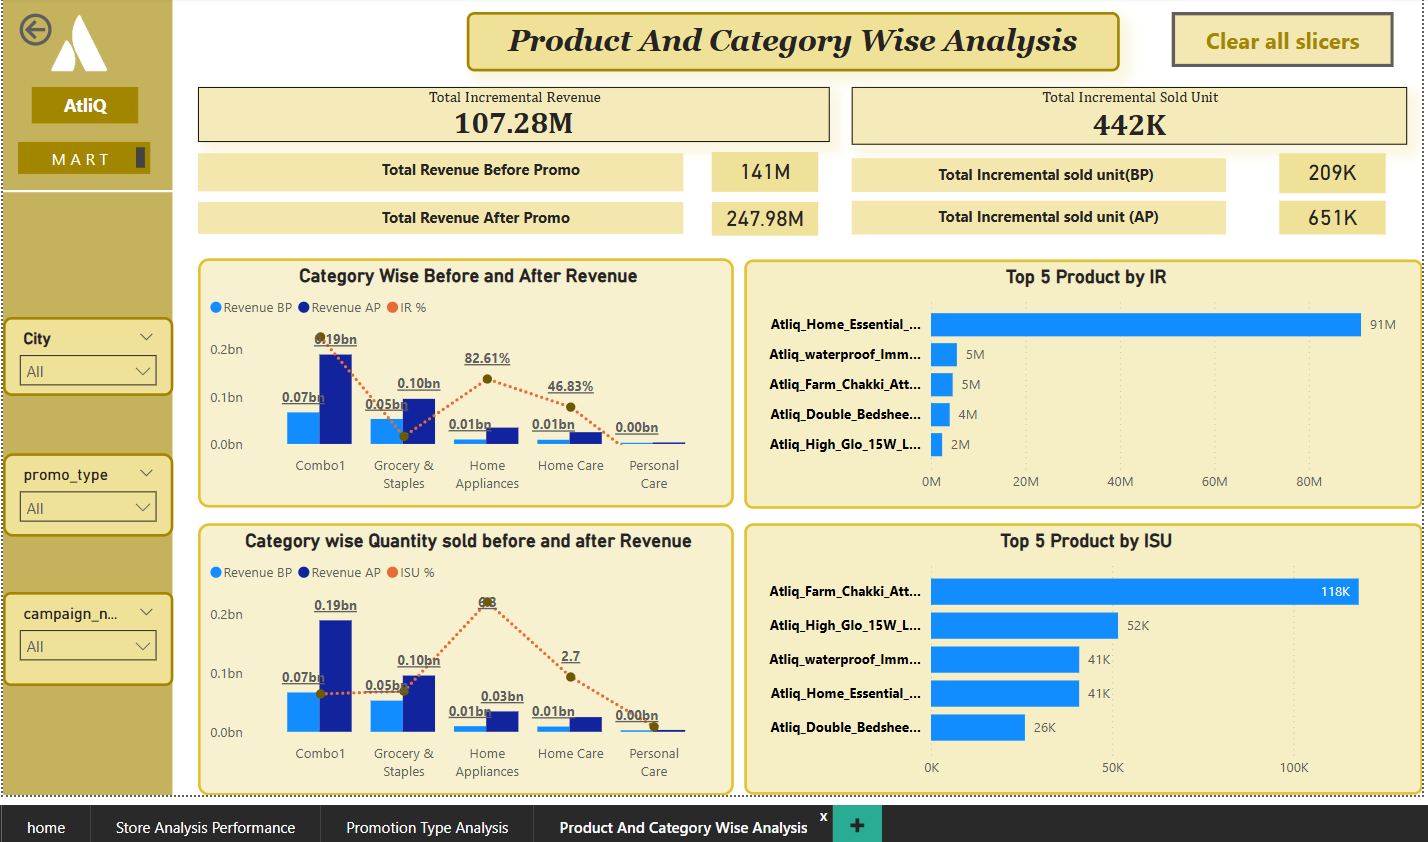

This screenshot's page, from the dashboard's own definition file:
{"tool":"powerbi","page":{"name":"Product And Category Wise Analysis","canvas":[1280,720],"ordinal":3},"visuals":[{"type":"lineClusteredColumnComboChart","title":"Category Wise Before and After Revenue","fields":{"Category":["dim_products.category"],"Y":["Sum(fact_events.Total Revenue(before_promo))","Sum(fact_events.Total Revenue(after_promo))"],"Y2":["Key_Metrics.IR %"]},"box":[175.6,236,483,225],"z":0},{"type":"shape","box":[0,0,153,720.3],"z":1000},{"type":"card","fields":{"Values":["Key_Metrics.Revenue BP"]},"box":[639.5,140,96.1,35.7],"z":2000},{"type":"card","fields":{"Values":["Key_Metrics.Revenue AP"]},"box":[639.5,185.2,96.1,30.2],"z":3000},{"type":"card","title":"Total Incremental Revenue","fields":{"Values":["Key_Metrics.Total IR"]},"box":[175.6,81,569.5,49.4],"z":4000},{"type":"textbox","box":[175.6,141.3,437.7,34.3],"z":5000},{"type":"textbox","box":[175.6,185.2,437.7,28.8],"z":6000},{"type":"card","title":"Total Incremental Sold Unit","fields":{"Values":["Key_Metrics.Total Incremental Sold Units"]},"box":[765.7,81,500.9,52.1],"z":7000},{"type":"textbox","box":[765.7,145.5,337.6,30.2],"z":8000},{"type":"textbox","box":[765.7,183.9,337.6,30.2],"z":9000},{"type":"card","fields":{"Values":["Sum(fact_events.quantity_sold(before_promo))"]},"box":[1151.3,141.3,96.1,35.7],"z":10000},{"type":"card","fields":{"Values":["Key_Metrics.Incremental sold(AP)"]},"box":[1151.3,183.9,96.1,30.2],"z":11000},{"type":"clusteredBarChart","title":"Top 5 Product by IR","fields":{"Y":["Sum(fact_events.IR)"],"Category":["dim_products.product_name"]},"box":[668.4,236.7,611.9,224.6],"z":12000},{"type":"textbox","box":[418.5,13.7,588.7,53.5],"z":13000},{"type":"image","box":[25.6,0,84.8,80.8],"z":14000},{"type":"textbox","box":[26.1,81,96.1,32.9],"z":15000},{"type":"textbox","box":[13.7,130.4,119.4,28.8],"z":16000},{"type":"shape","box":[0,150.9,153.7,48],"z":17000},{"type":"slicer","fields":{"Values":["dim_stores.city"]},"box":[0,288.2,153.7,71.4],"z":18000},{"type":"slicer","fields":{"Values":["fact_events.promo_type"]},"box":[0,411.7,153.7,75.5],"z":19000},{"type":"slicer","fields":{"Values":["dim_campaigns.campaign_name"]},"box":[0,536.5,153.7,85.1],"z":20000},{"type":"lineClusteredColumnComboChart","title":"Category wise Quantity sold before and after Revenue","fields":{"Category":["dim_products.category"],"Y":["Sum(fact_events.Total Revenue(before_promo))","Sum(fact_events.Total Revenue(after_promo))"],"Y2":["Key_Metrics.ISU %"]},"box":[175.6,474.8,483,245.6],"z":21000},{"type":"clusteredBarChart","title":"Top 5 Product by ISU","fields":{"Y":["Sum(fact_events.ISU)"],"Category":["dim_products.product_name"]},"box":[668.4,474.7,611.9,244.8],"z":22000}]}

Visuals, with their boxes on the page's 1280x720 design canvas (x1, y1, x2, y2). These are canvas units, not pixel positions in the 1428x842 screenshot, which may show the page scaled, cropped or inside an application window:
"Category Wise Before and After Revenue" lineClusteredColumnComboChart: detection(176, 236, 659, 461)
shape: detection(0, 0, 153, 720)
card - Key_Metrics.Revenue BP: detection(640, 140, 736, 176)
card - Key_Metrics.Revenue AP: detection(640, 185, 736, 215)
"Total Incremental Revenue" card: detection(176, 81, 745, 130)
textbox: detection(176, 141, 613, 176)
textbox: detection(176, 185, 613, 214)
"Total Incremental Sold Unit" card: detection(766, 81, 1267, 133)
textbox: detection(766, 146, 1103, 176)
textbox: detection(766, 184, 1103, 214)
card - Sum(fact_events.quantity_sold(before_promo)): detection(1151, 141, 1247, 177)
card - Key_Metrics.Incremental sold(AP): detection(1151, 184, 1247, 214)
"Top 5 Product by IR" clusteredBarChart: detection(668, 237, 1280, 461)
textbox: detection(418, 14, 1007, 67)
image: detection(26, 0, 110, 81)
textbox: detection(26, 81, 122, 114)
textbox: detection(14, 130, 133, 159)
shape: detection(0, 151, 154, 199)
slicer - dim_stores.city: detection(0, 288, 154, 360)
slicer - fact_events.promo_type: detection(0, 412, 154, 487)
slicer - dim_campaigns.campaign_name: detection(0, 536, 154, 622)
"Category wise Quantity sold before and after Revenue" lineClusteredColumnComboChart: detection(176, 475, 659, 720)
"Top 5 Product by ISU" clusteredBarChart: detection(668, 475, 1280, 720)
